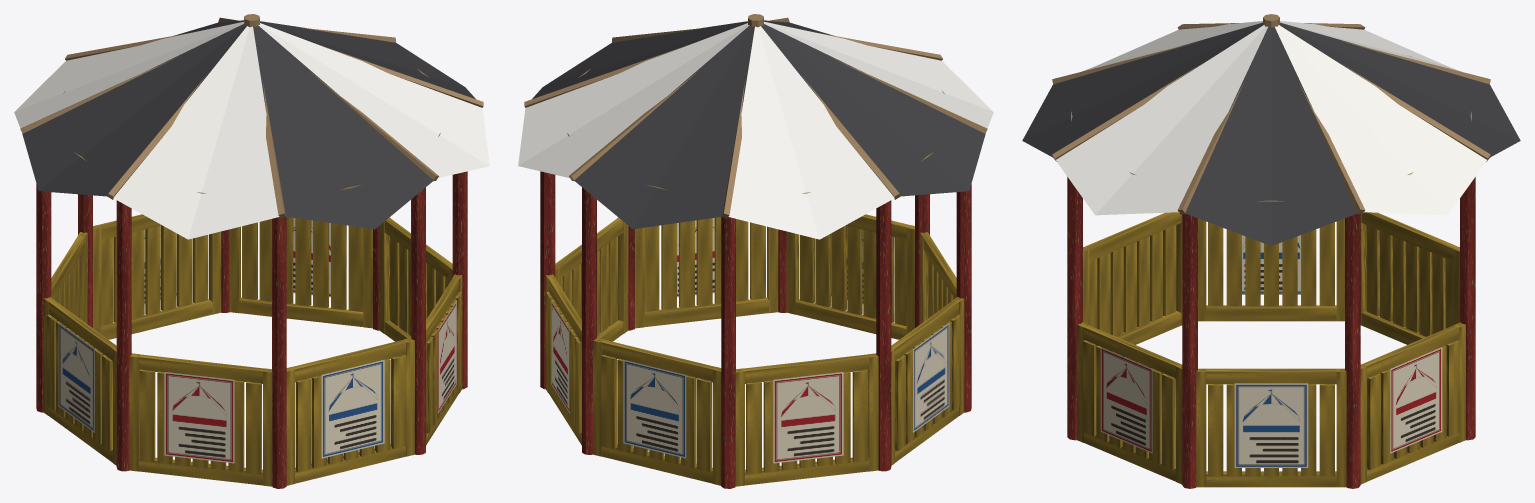
File: funfair_stall.glb
The picture shows the model from 3 angles, left to right: view 1: azimuth 30°, elevation 25°; view 2: azimuth 150°, elevation 25°; view 3: azimuth 270°, elevation 25°; orthographic projection.
Parts seen in each view (by area): view 1: Canvas, Panels, Pillars, Posters, CanopyFrame; view 2: Canvas, Panels, Pillars, Posters, CanopyFrame; view 3: Canvas, Panels, Posters, Pillars, CanopyFrame.
Part boxes in pixels (x1,y1,x2,y2): Canvas: (14,20,489,239); Panels: (43,214,462,486); Pillars: (36,171,467,488); Posters: (58,218,456,463); CanopyFrame: (20,14,483,218); Canvas: (518,20,993,239); Panels: (545,214,964,486); Pillars: (540,171,971,488); Posters: (551,218,949,463); CanopyFrame: (524,14,987,218); Canvas: (1022,21,1520,245); Panels: (1077,212,1465,487); Posters: (1100,235,1442,467); Pillars: (1067,177,1475,488); CanopyFrame: (1052,14,1490,214).
Size of the model in its own units: 3.52 by 3 by 3.52.
7 materials, 4 textured.
